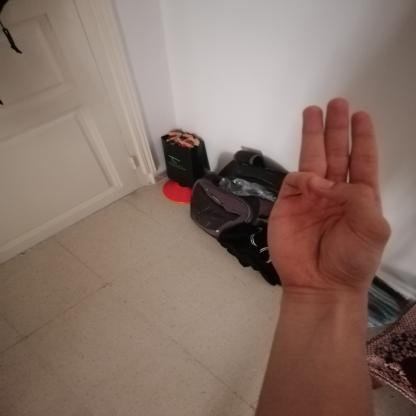THA: (256, 86, 403, 304)
